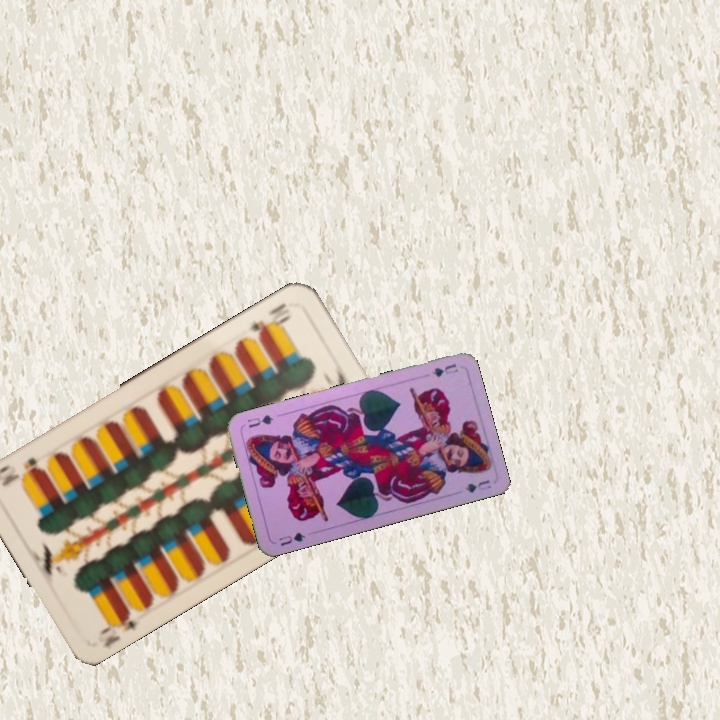E10: (95, 605, 146, 649), (244, 298, 293, 341)
GU: (275, 528, 308, 549), (428, 360, 461, 380)
